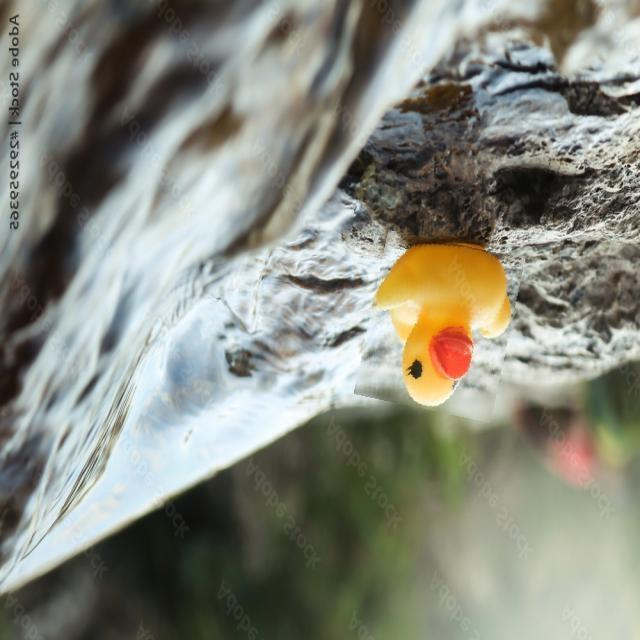rubber-duck: (374, 243, 509, 404)
